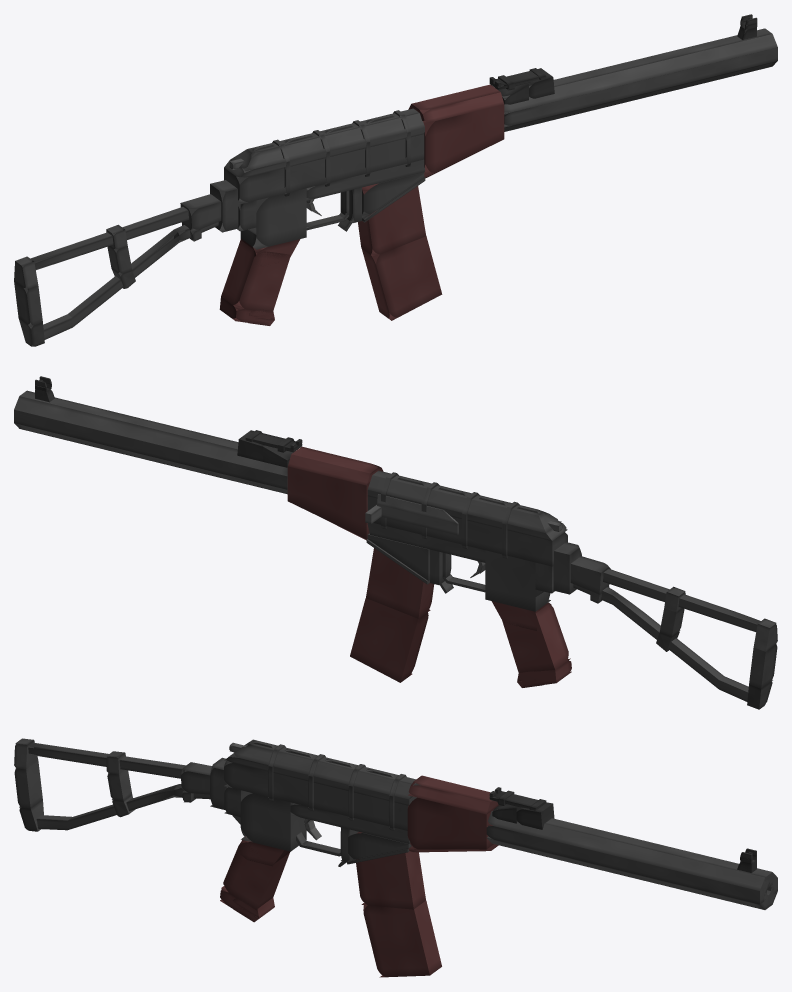
File: asval.obj
3 renders of one model, top to bottom at view 1: azimuth 30°, elevation 25°; view 2: azimuth 150°, elevation 25°; view 3: azimuth 330°, elevation 25°, orthographic.
Parts seen in each view (by area): view 1: gunModel19, ammoModel1, defaultBarrelModel1, defaultBarrelModel2, gunModel16, gunModel21, defaultGripModel2, ammoModel0, gunModel0, defaultStockModel2, gunModel17, defaultStockModel4 (+10 smaller); view 2: ammoModel1, defaultBarrelModel7, defaultBarrelModel3, gunModel16, gunModel21, gunModel19, defaultGripModel2, ammoModel0, gunModel0, defaultStockModel2, gunModel17, defaultStockModel4 (+13 smaller); view 3: ammoModel1, gunModel19, defaultBarrelModel1, defaultBarrelModel2, gunModel16, ammoModel0, gunModel21, gunModel0, defaultGripModel2, defaultStockModel2, gunModel17, defaultBarrelModel0 (+15 smaller).
Boxes of the visible parts, bbox=[...] form: gunModel19: bbox=[224, 134, 424, 204]; ammoModel1: bbox=[361, 236, 442, 320]; defaultBarrelModel1: bbox=[504, 34, 777, 116]; defaultBarrelModel2: bbox=[504, 47, 777, 127]; gunModel16: bbox=[420, 104, 504, 177]; gunModel21: bbox=[230, 108, 424, 170]; defaultGripModel2: bbox=[221, 240, 290, 312]; ammoModel0: bbox=[358, 183, 426, 256]; gunModel0: bbox=[240, 188, 306, 249]; defaultStockModel2: bbox=[21, 207, 189, 269]; gunModel17: bbox=[408, 84, 503, 123]; defaultStockModel4: bbox=[68, 229, 179, 326]; ammoModel1: bbox=[350, 598, 428, 682]; defaultBarrelModel7: bbox=[14, 396, 287, 476]; defaultBarrelModel3: bbox=[14, 410, 287, 489]; gunModel16: bbox=[287, 466, 369, 539]; gunModel21: bbox=[367, 470, 561, 533]; gunModel19: bbox=[367, 496, 567, 566]; defaultGripModel2: bbox=[502, 604, 570, 672]; ammoModel0: bbox=[366, 548, 434, 618]; gunModel0: bbox=[485, 550, 550, 611]; defaultStockModel2: bbox=[603, 569, 760, 631]; gunModel17: bbox=[288, 446, 383, 485]; defaultStockModel4: bbox=[612, 592, 723, 688]; ammoModel1: bbox=[363, 900, 441, 977]; gunModel19: bbox=[224, 756, 408, 830]; defaultBarrelModel1: bbox=[488, 811, 769, 895]; defaultBarrelModel2: bbox=[486, 822, 766, 904]; gunModel16: bbox=[407, 797, 493, 849]; ammoModel0: bbox=[356, 832, 425, 909]; gunModel21: bbox=[230, 739, 420, 799]; gunModel0: bbox=[240, 793, 306, 851]; defaultGripModel2: bbox=[221, 841, 289, 910]; defaultStockModel2: bbox=[25, 742, 187, 778]; gunModel17: bbox=[408, 775, 498, 814]; defaultBarrelModel0: bbox=[497, 809, 772, 887].
Size of the model in its own units: 24.7 by 6.61 by 1.61.
